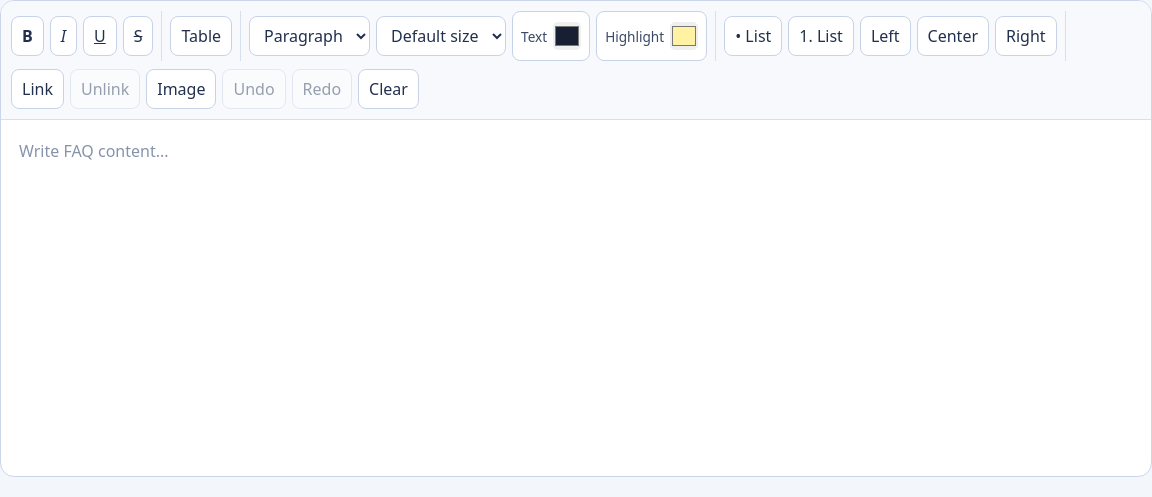
Test case: RichTextEditor › inserts a two by two table with a header row
Click the button "Table" at (201, 36), box [170, 16, 232, 56]
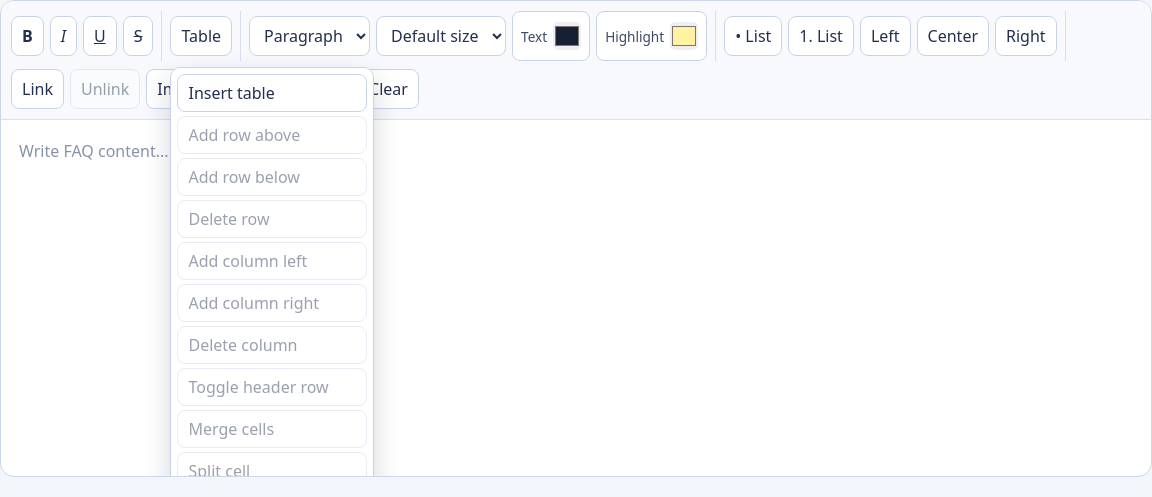
Click the menu item "Insert table" at (272, 93), box [178, 74, 368, 112]
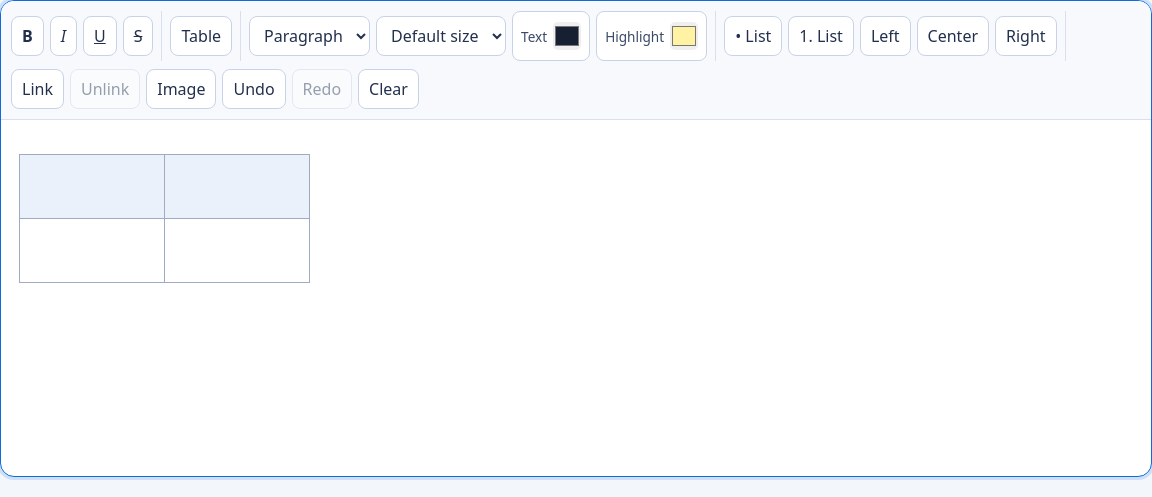
Expected: the number of rows is 2, [20, 154, 310, 219]; [20, 219, 310, 283]
Expected: the number of column headings is 2, [20, 154, 164, 219]; [164, 154, 310, 219]
Expected: the number of cells is 2, [20, 219, 164, 283]; [164, 219, 310, 283]
